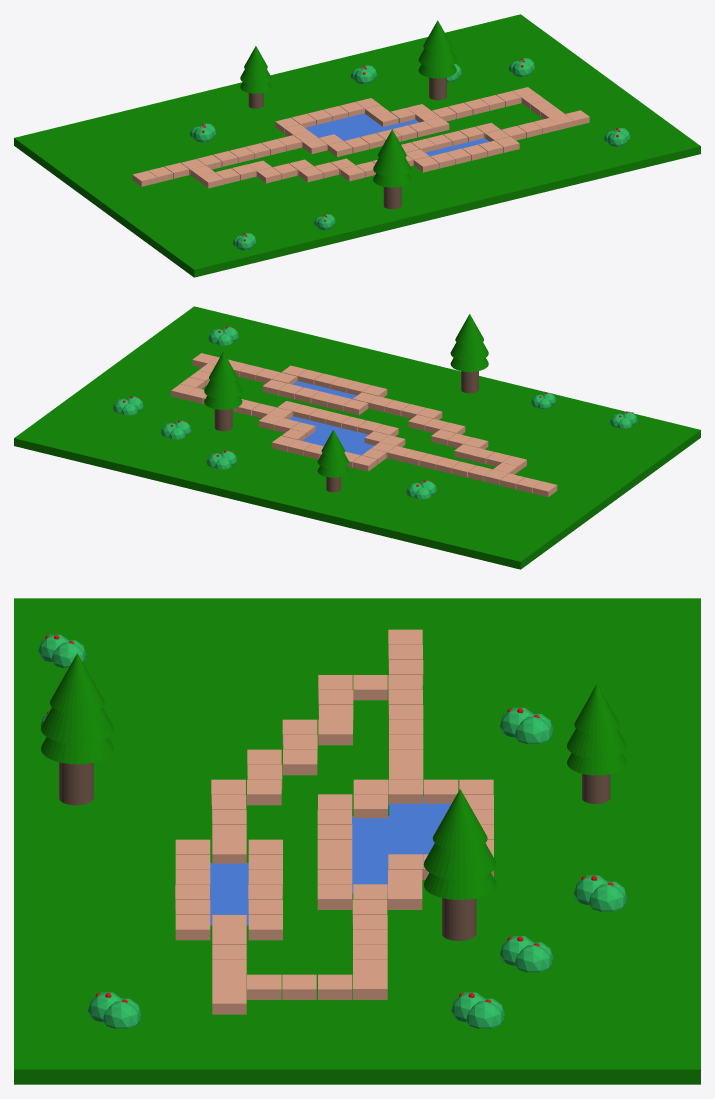
Rendered from mapaa.glb.
3 views of the same model, one above another, from view 1: azimuth 30°, elevation 25°; view 2: azimuth 150°, elevation 25°; view 3: azimuth 270°, elevation 25° (orthographic). The views are drawn at different scales.
Visible parts, largest first — view 1: Plano, Plano.003, Cono.007, Cono.001, Cono.002, Cono.008, Plano.002; view 2: Plano, Plano.002, Cono.001, Cono.007, Cono.002, Cono.008, Plano.003; view 3: Plano, Plano.002, Plano.003, Plano.001, Cono.007, Cono.001, Cono.002, Cono.008, Cono.006, Cono, Cilindro, Cilindro.002 (+26 smaller).
Boxes of the visible parts, x1,y1,x2,y2 form: Plano: [14, 14, 700, 277]; Plano.003: [305, 113, 381, 137]; Cono.007: [418, 49, 456, 67]; Cono.001: [373, 158, 411, 176]; Cono.002: [378, 129, 406, 161]; Cono.008: [423, 20, 451, 52]; Plano.002: [337, 119, 419, 140]; Plano: [14, 306, 700, 569]; Plano.002: [289, 416, 368, 445]; Cono.001: [450, 342, 488, 361]; Cono.007: [204, 380, 242, 399]; Cono.002: [455, 314, 483, 345]; Cono.008: [209, 352, 237, 383]; Plano.003: [302, 432, 374, 455]; Plano: [14, 598, 700, 1084]; Plano.002: [352, 816, 397, 893]; Plano.003: [389, 796, 451, 873]; Plano.001: [210, 863, 248, 925]; Cono.007: [423, 843, 496, 879]; Cono.001: [41, 707, 113, 743]; Cono.002: [50, 653, 104, 714]; Cono.008: [432, 789, 487, 849]; Cono.006: [423, 873, 496, 899]; Cono: [41, 737, 113, 764]; Cilindro: [59, 762, 93, 805]; Cilindro.002: [442, 898, 476, 940].
Size of the model in its own units: 64.61 by 10.29 by 39.81.
